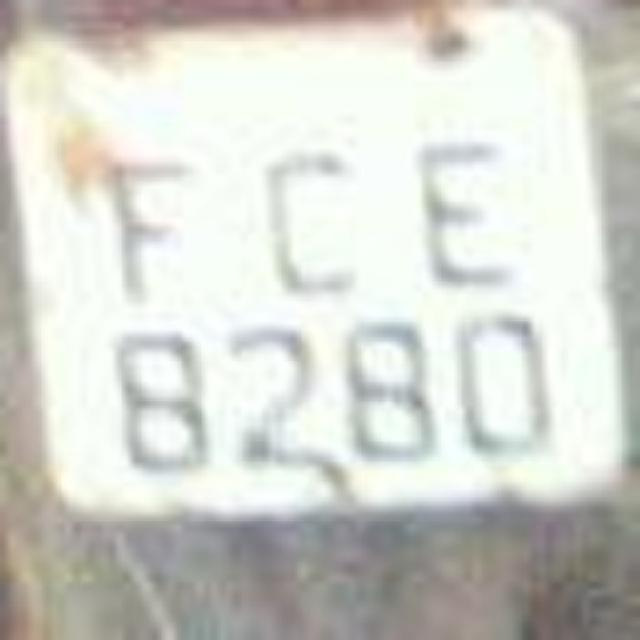0: (432, 292, 572, 480)
2: (196, 300, 349, 492)
8: (84, 292, 231, 492), (316, 288, 456, 492)
C: (232, 124, 392, 296)
P: (76, 128, 229, 304)
